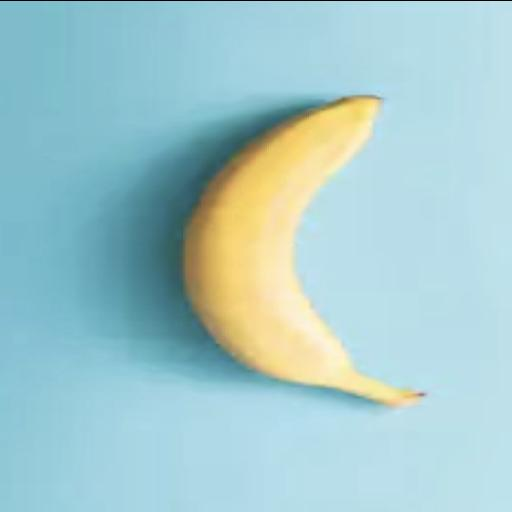banana: (183, 96, 422, 407)
